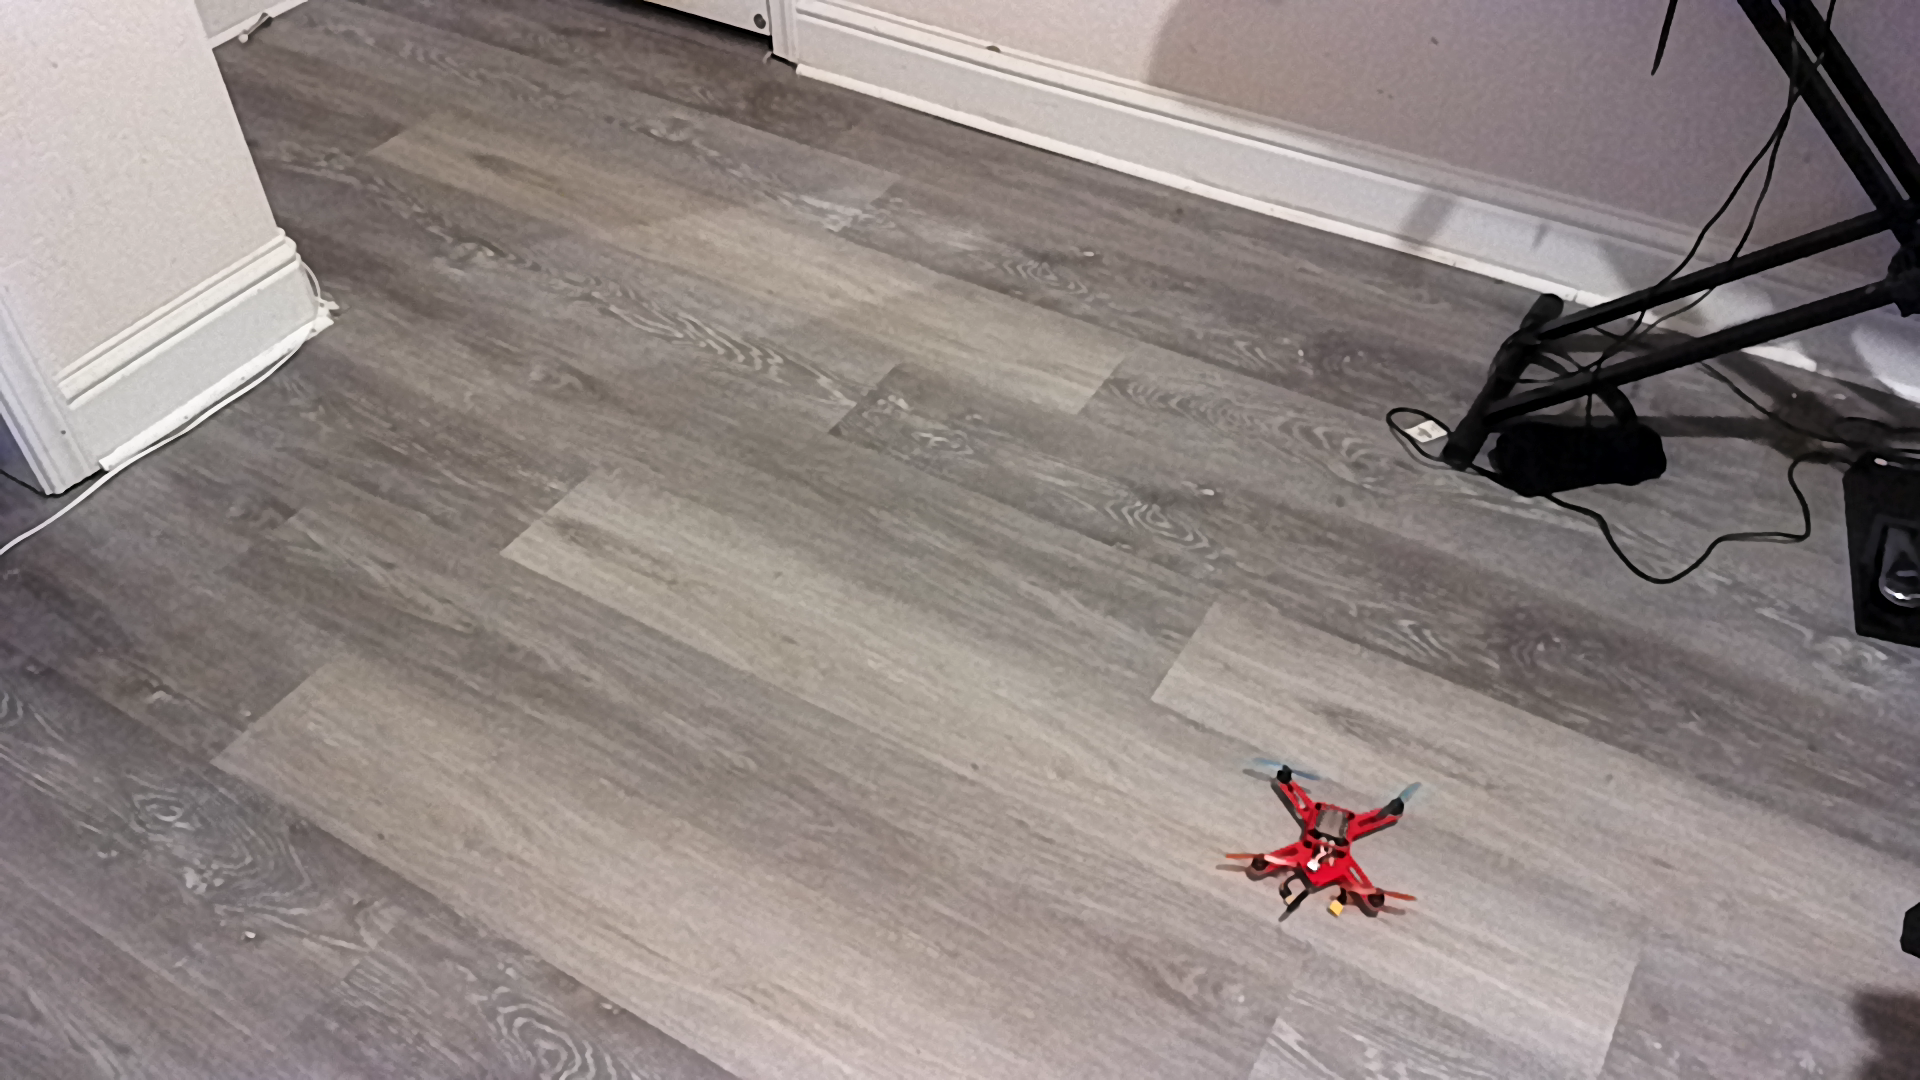drone: (1228, 745, 1448, 935)
